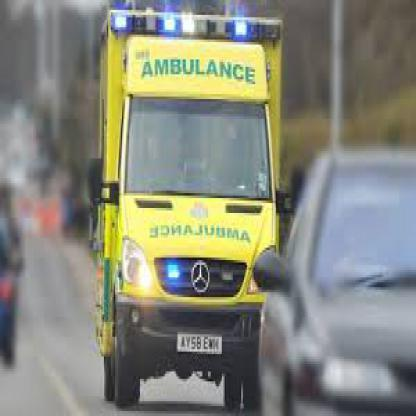Ambulance - v1 Ambulance last generate: (101, 19, 284, 406)
